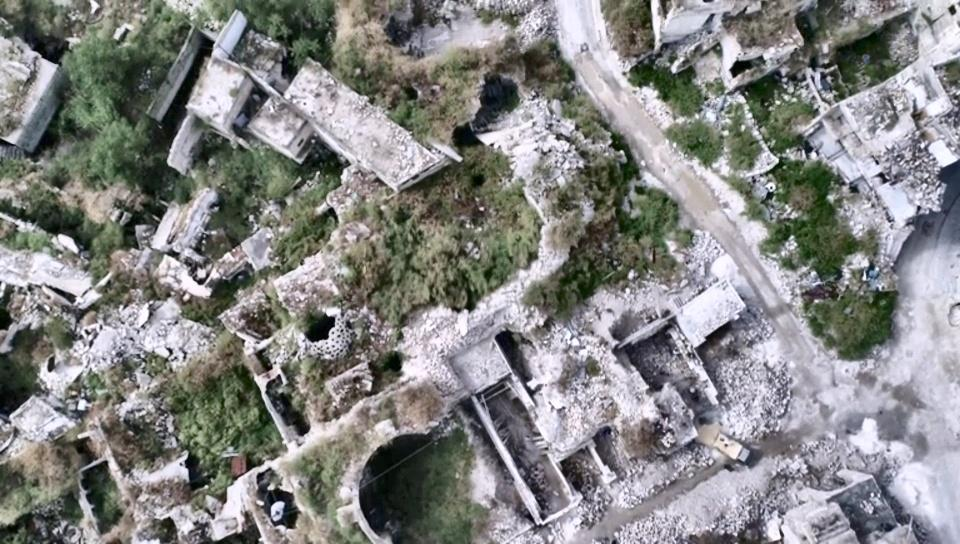kapali: (548, 386, 843, 543)
